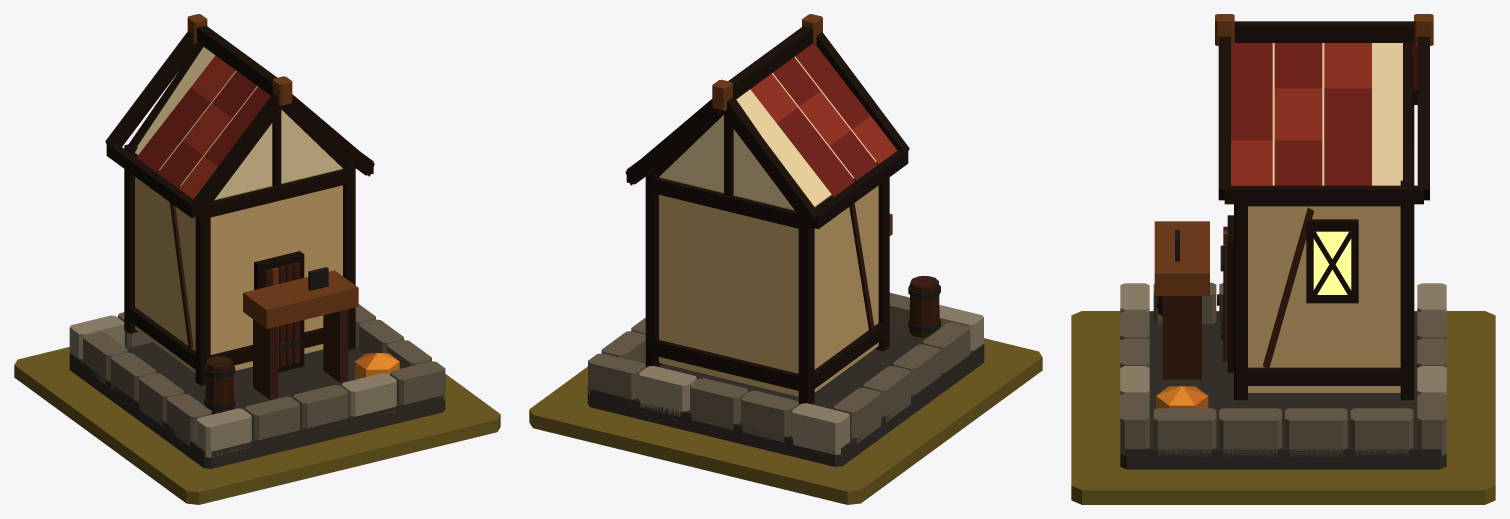
The model's file is butchery_t2.glb.
The picture shows the model from 3 angles, left to right: view 1: azimuth 30°, elevation 25°; view 2: azimuth 150°, elevation 25°; view 3: azimuth 270°, elevation 25°; orthographic projection. The views are drawn at different scales.
Parts seen in each view (by area): view 1: MMR | butchery | T02 Architecture.001, MMR | butchery | Tier 02 Ground.001, MMR | butchery | T02 Autumn Dressing.001; view 2: MMR | butchery | T02 Architecture.001, MMR | butchery | Tier 02 Ground.001; view 3: MMR | butchery | T02 Architecture.001, MMR | butchery | Tier 02 Ground.001, MMR | butchery | T02 Autumn Dressing.001.
Part boxes in pixels (x1,y1,x2,y2): MMR | butchery | T02 Architecture.001: (69, 14, 445, 468); MMR | butchery | Tier 02 Ground.001: (14, 347, 500, 504); MMR | butchery | T02 Autumn Dressing.001: (354, 353, 399, 379); MMR | butchery | T02 Architecture.001: (587, 14, 984, 466); MMR | butchery | Tier 02 Ground.001: (529, 338, 1042, 504); MMR | butchery | T02 Architecture.001: (1120, 14, 1446, 469); MMR | butchery | Tier 02 Ground.001: (1071, 311, 1495, 504); MMR | butchery | T02 Autumn Dressing.001: (1156, 386, 1208, 408).
Bounding box in the file's own units: 1.3 × 1.34 × 1.3.
Materials: 2 (1 with a texture image).
